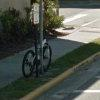Bicycle: (19, 34, 56, 81)
